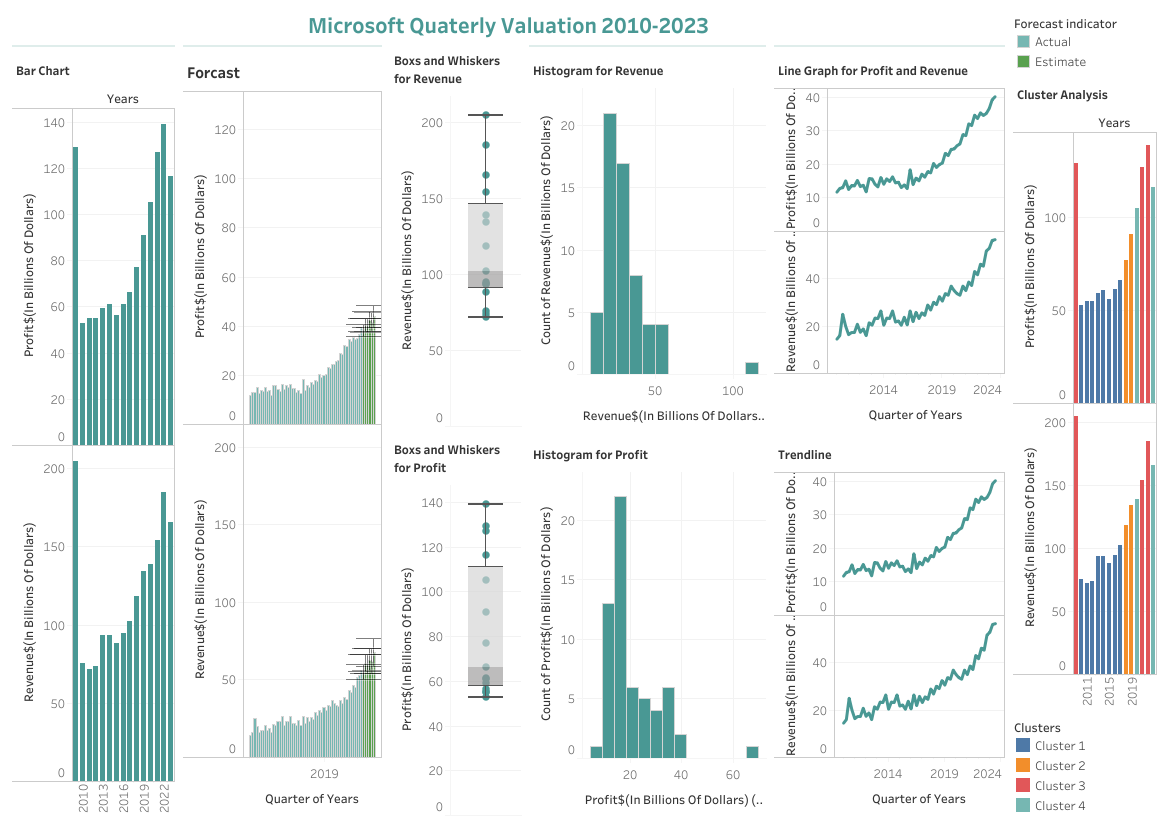

The dashboard page shown, as its layout file describes it:
{"tool":"tableau","page":{"name":"Microsoft Quaterly Valuation 2010-2023","canvas":[1169,827],"ordinal":0},"visuals":[{"type":"text","box":[8,8,1001,33.2]},{"type":"legend","title":"Forcast ","param":"[federated.0momjpb1n25xzh182mw1s07rxxqw].[none:Forecast Indicator:nk]","box":[1009,8,152,66]},{"type":"blank","box":[8,41.2,170.8,10]},{"type":"blank","box":[178.8,41.2,206.9,10]},{"type":"worksheet","title":"Boxs and Whiskers for Revenue","mark":"Circle","rows":["REVENUE$(IN BILLIONS OF DOLLARS)"],"box":[385.8,41.2,139.6,388.9]},{"type":"blank","box":[525.3,41.2,244.2,10]},{"type":"blank","box":[769.6,41.2,239.4,10]},{"type":"worksheet","title":"Bar Chart","mark":"Bar","rows":["PROFIT$(IN BILLIONS OF DOLLARS)","REVENUE$(IN BILLIONS OF DOLLARS)"],"cols":["YEARS"],"box":[8,51.2,170.8,767.8]},{"type":"worksheet","title":"Forcast ","mark":"Bar","rows":["PROFIT$(IN BILLIONS OF DOLLARS)","REVENUE$(IN BILLIONS OF DOLLARS)"],"cols":["YEARS"],"box":[178.8,51.2,206.9,767.8]},{"type":"worksheet","title":"Histogram for Revenue","mark":"Automatic","rows":["REVENUE$(IN BILLIONS OF DOLLARS)"],"cols":["Revenue$(In Billions Of Dollars) (bin)"],"box":[525.3,51.2,244.2,383.9]},{"type":"worksheet","title":"Line Graph for Profit and Revenue","mark":"Automatic","rows":["PROFIT$(IN BILLIONS OF DOLLARS)","REVENUE$(IN BILLIONS OF DOLLARS)"],"cols":["YEARS"],"box":[769.6,51.2,239.4,383.9]},{"type":"worksheet","title":"Cluster Analysis ","mark":"Bar","rows":["PROFIT$(IN BILLIONS OF DOLLARS)","REVENUE$(IN BILLIONS OF DOLLARS)"],"cols":["YEARS"],"box":[1009,74,152,639]},{"type":"worksheet","title":"Boxs and Whiskers for Profit","mark":"Circle","rows":["PROFIT$(IN BILLIONS OF DOLLARS)"],"box":[385.8,430.1,139.6,388.9]},{"type":"worksheet","title":"Histogram for Profit ","mark":"Automatic","rows":["PROFIT$(IN BILLIONS OF DOLLARS)"],"cols":["Profit$(In Billions Of Dollars) (bin)"],"box":[525.3,435.1,244.2,383.9]},{"type":"worksheet","title":"Trendline","mark":"Automatic","rows":["PROFIT$(IN BILLIONS OF DOLLARS)","REVENUE$(IN BILLIONS OF DOLLARS)"],"cols":["YEARS"],"box":[769.6,435.1,239.4,383.9]},{"type":"legend","title":"Cluster Analysis ","param":"[federated.0momjpb1n25xzh182mw1s07rxxqw].[none:AdhocCluster:1:ok]","box":[1009,713,152,106]}]}

Visuals, with their boxes in screenshot pixels (x1, y1, x2, y2), scaled from the page's 1169x827 canvas onto the 1168x826 screenshot:
text: {"x1": 8, "y1": 8, "x2": 1008, "y2": 41}
"Forcast " legend: {"x1": 1008, "y1": 8, "x2": 1160, "y2": 74}
blank: {"x1": 8, "y1": 41, "x2": 179, "y2": 51}
blank: {"x1": 179, "y1": 41, "x2": 385, "y2": 51}
"Boxs and Whiskers for Revenue" worksheet (Circle marks): {"x1": 385, "y1": 41, "x2": 525, "y2": 430}
blank: {"x1": 525, "y1": 41, "x2": 769, "y2": 51}
blank: {"x1": 769, "y1": 41, "x2": 1008, "y2": 51}
"Bar Chart" worksheet (Bar marks): {"x1": 8, "y1": 51, "x2": 179, "y2": 818}
"Forcast " worksheet (Bar marks): {"x1": 179, "y1": 51, "x2": 385, "y2": 818}
"Histogram for Revenue" worksheet: {"x1": 525, "y1": 51, "x2": 769, "y2": 435}
"Line Graph for Profit and Revenue" worksheet: {"x1": 769, "y1": 51, "x2": 1008, "y2": 435}
"Cluster Analysis " worksheet (Bar marks): {"x1": 1008, "y1": 74, "x2": 1160, "y2": 712}
"Boxs and Whiskers for Profit" worksheet (Circle marks): {"x1": 385, "y1": 430, "x2": 525, "y2": 818}
"Histogram for Profit " worksheet: {"x1": 525, "y1": 435, "x2": 769, "y2": 818}
"Trendline" worksheet: {"x1": 769, "y1": 435, "x2": 1008, "y2": 818}
"Cluster Analysis " legend: {"x1": 1008, "y1": 712, "x2": 1160, "y2": 818}
